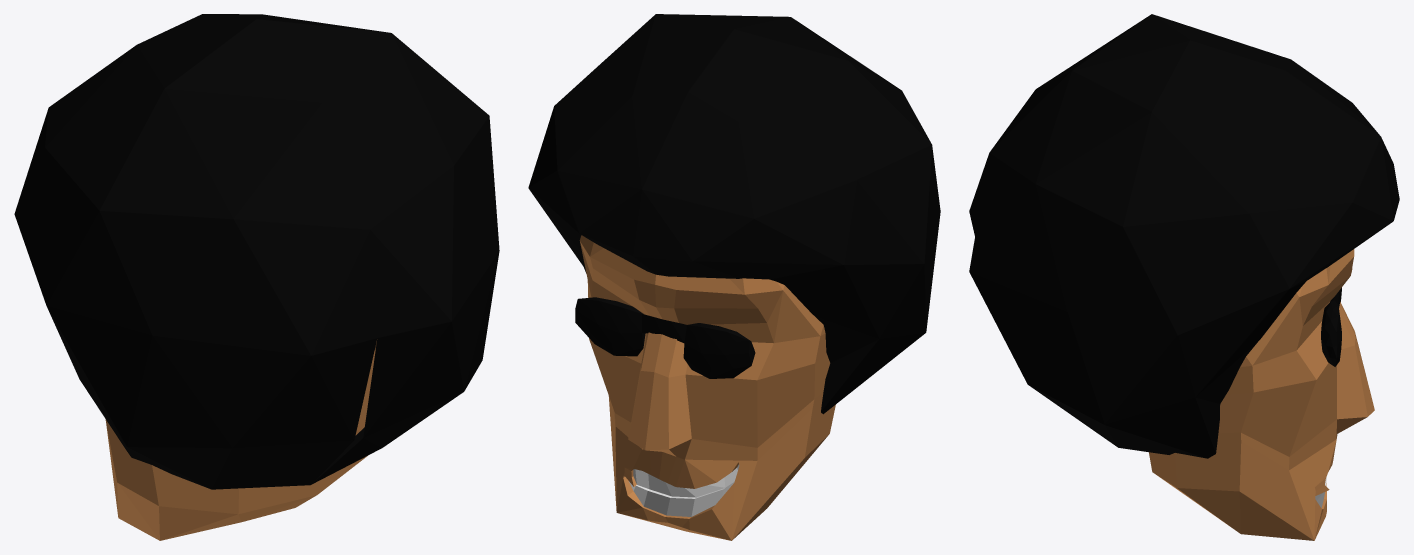
Rendered from DiscoPete.fbx.
3 renders of one model, left to right at view 1: azimuth 30°, elevation 25°; view 2: azimuth 150°, elevation 25°; view 3: azimuth 270°, elevation 25°, orthographic. The views are drawn at different scales.
Visible parts, largest first — view 1: DiscoPete; view 2: DiscoPete; view 3: DiscoPete.
Part boxes in pixels (x1,y1,x2,y2): DiscoPete: [14, 14, 499, 540]; DiscoPete: [528, 14, 940, 540]; DiscoPete: [969, 14, 1399, 540].
Bounding box in the file's own units: 63.68 × 77.02 × 61.94.
